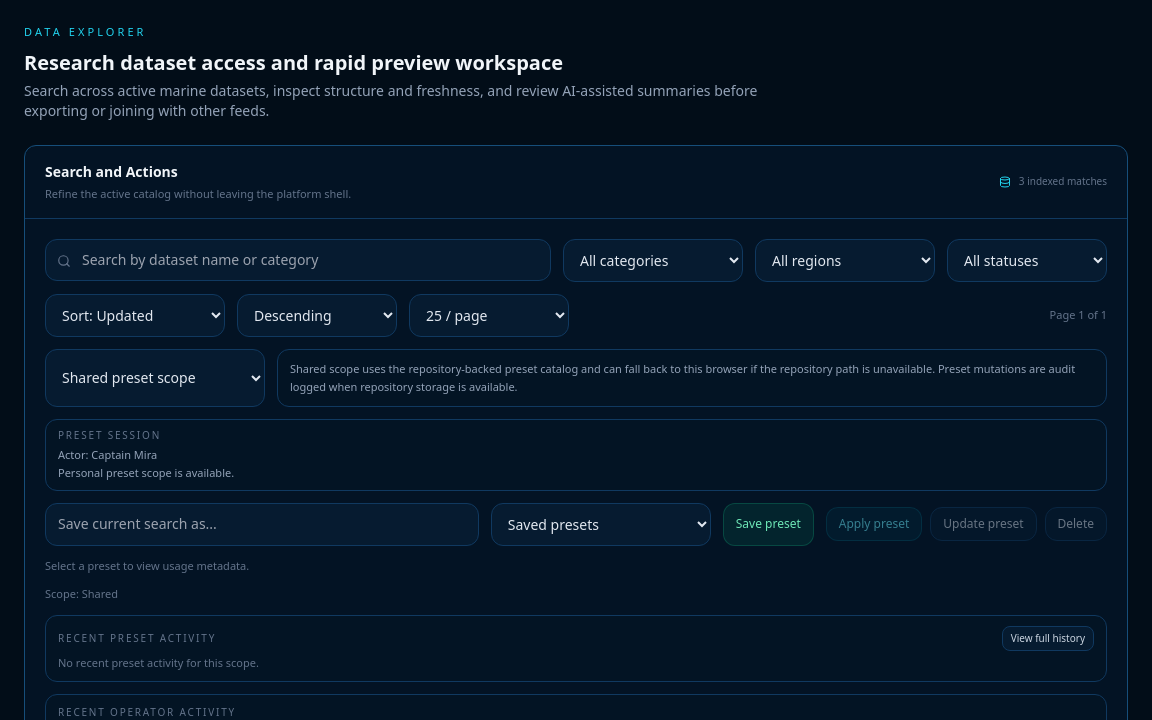
Test case: updating a selected preset replaces its filter snapshot without creating a duplicate
Select "Update Target" in the dropdown named "Saved presets" at (601, 524), box left=491, top=503, right=711, bottom=546
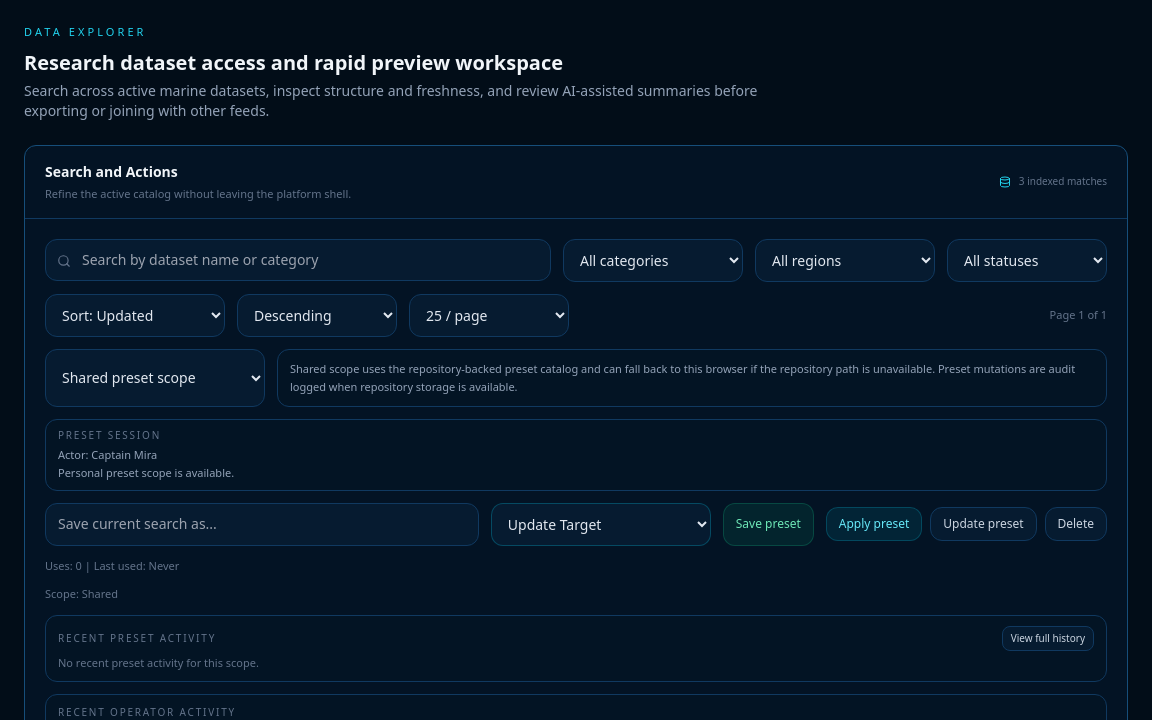
Result: the button "Update preset" is enabled at left=930, top=507, right=1036, bottom=541
Type "after" into the field named "Dataset search".
click(298, 260); type("after")  # box left=45, top=239, right=551, bottom=281
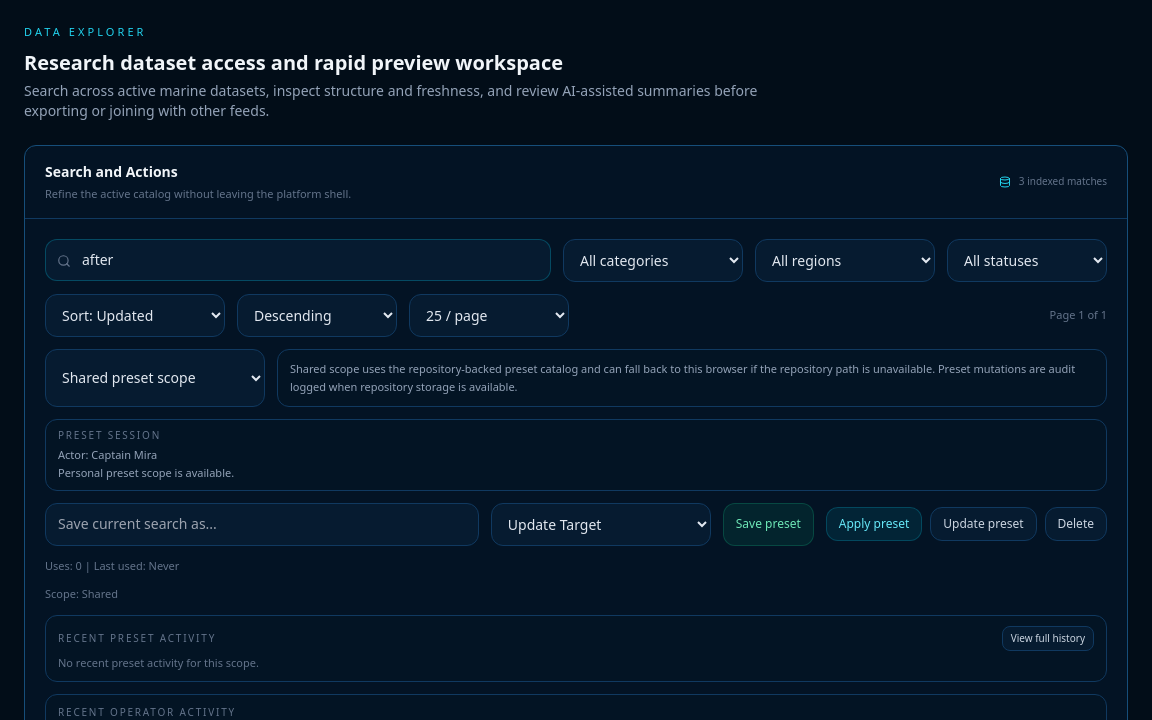
Result: the button "Update preset" is enabled
Click the button "Update preset".
click(983, 524)  # box left=930, top=507, right=1036, bottom=541
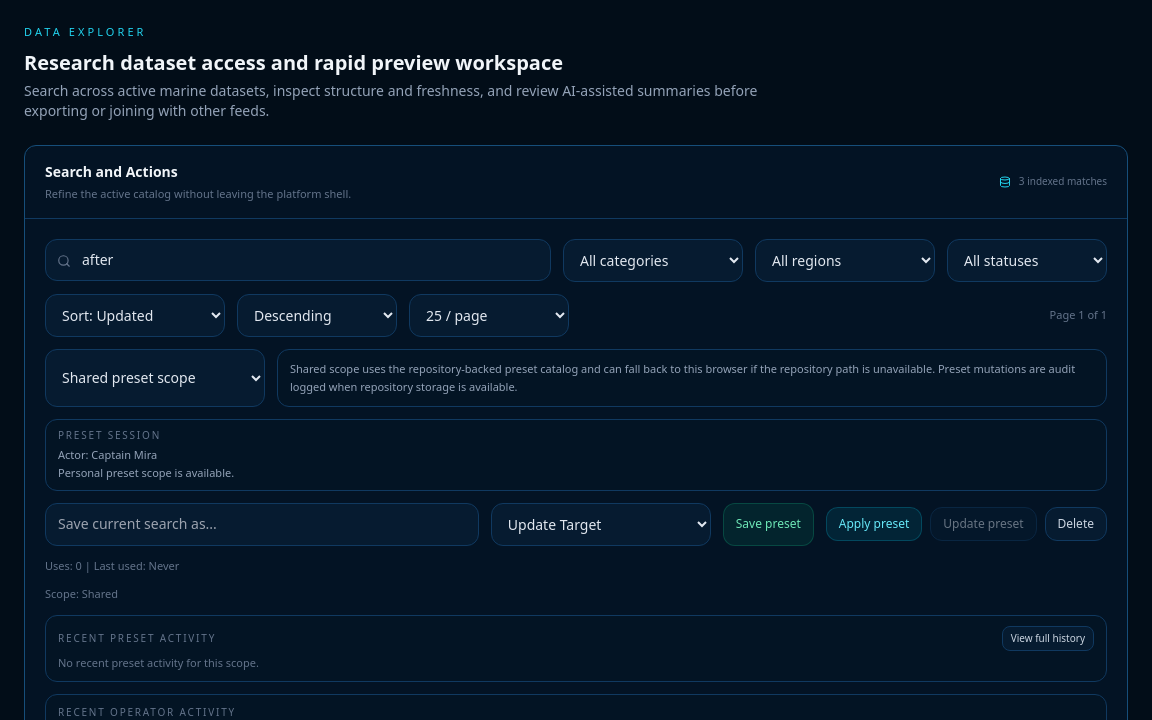
Result: the button "Update preset" is disabled at left=930, top=507, right=1036, bottom=541
